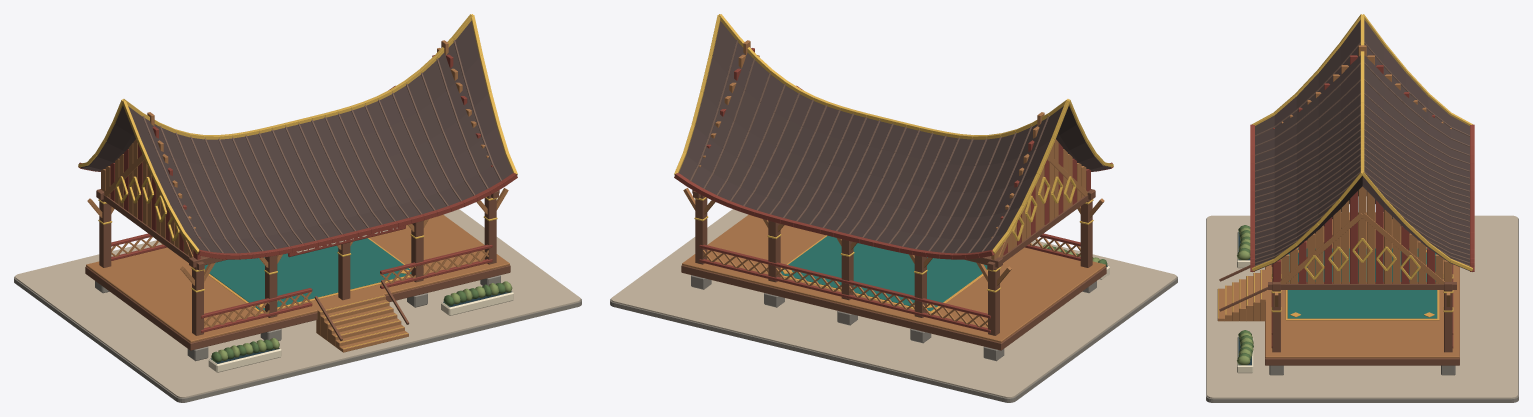
The picture shows the model from 3 angles, left to right: view 1: azimuth 30°, elevation 25°; view 2: azimuth 150°, elevation 25°; view 3: azimuth 270°, elevation 25°; orthographic projection. The views are drawn at different scales.
Visible parts, largest first — view 1: Swept Shingle Mantle, Balai Approach, Raised Gelanggang, Carved Merbau Frame, Gable Fretwork; view 2: Swept Shingle Mantle, Balai Approach, Raised Gelanggang, Carved Merbau Frame, Gable Fretwork; view 3: Swept Shingle Mantle, Balai Approach, Raised Gelanggang, Gable Fretwork, Carved Merbau Frame.
Boxes of the visible parts, bbox=[...] form: Swept Shingle Mantle: bbox=[78, 14, 517, 259]; Balai Approach: bbox=[14, 209, 581, 402]; Raised Gelanggang: bbox=[85, 214, 510, 350]; Carved Merbau Frame: bbox=[87, 188, 508, 361]; Gable Fretwork: bbox=[101, 40, 492, 259]; Swept Shingle Mantle: bbox=[674, 14, 1113, 259]; Balai Approach: bbox=[610, 209, 1177, 402]; Raised Gelanggang: bbox=[681, 214, 1106, 350]; Carved Merbau Frame: bbox=[683, 188, 1104, 361]; Gable Fretwork: bbox=[699, 40, 1090, 259]; Swept Shingle Mantle: bbox=[1250, 14, 1474, 271]; Balai Approach: bbox=[1206, 215, 1518, 402]; Raised Gelanggang: bbox=[1265, 212, 1459, 365]; Gable Fretwork: bbox=[1273, 45, 1451, 284]; Carved Merbau Frame: bbox=[1268, 259, 1456, 375].
Bounding box in the file's own units: 23.8 × 13.25 × 17.2.
